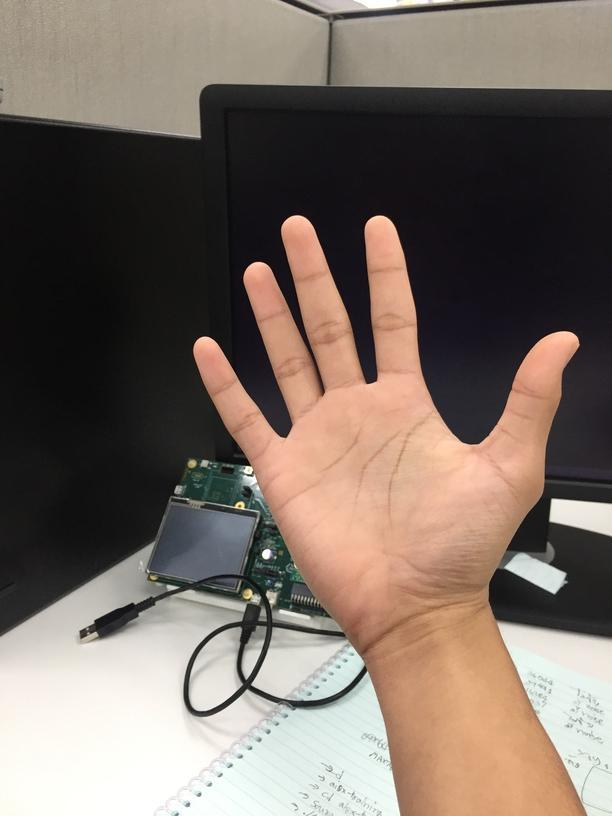hand: (191, 208, 581, 656)
